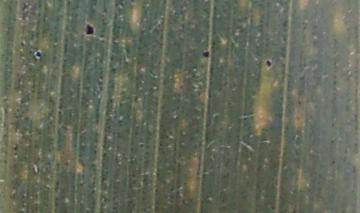tarspot: (84, 23, 95, 36), (34, 50, 42, 59), (266, 58, 272, 69), (202, 50, 209, 58)
